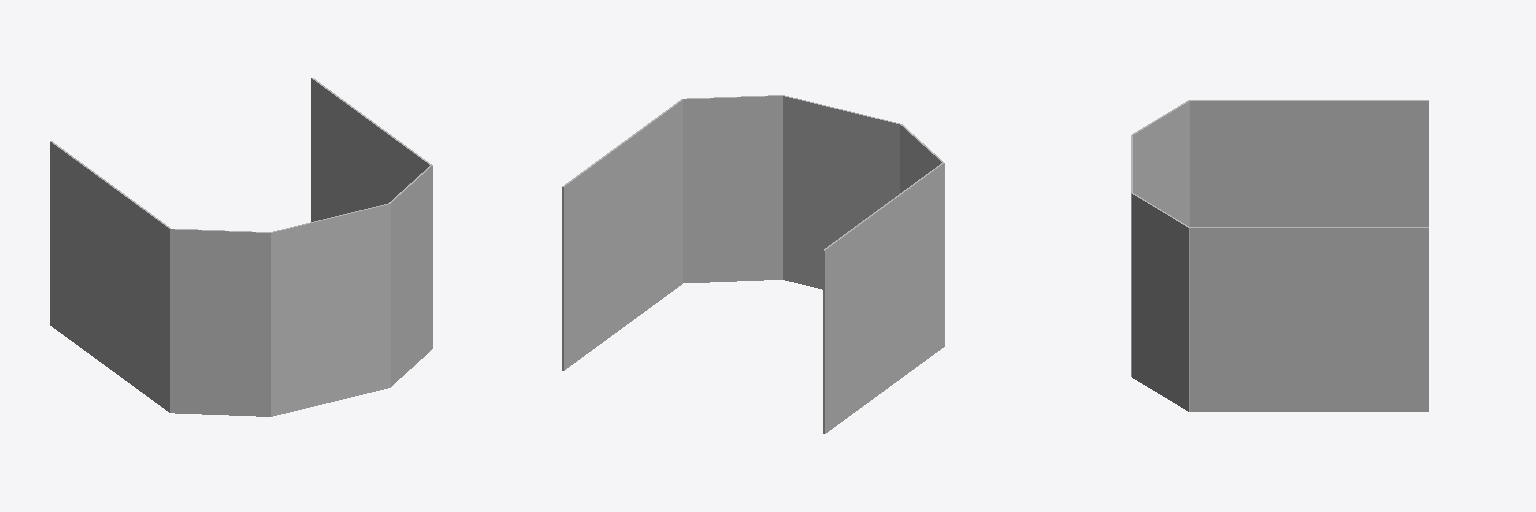
File: Fundo.obj
The picture shows the model from 3 angles: view 1: azimuth 30°, elevation 25°; view 2: azimuth 150°, elevation 25°; view 3: azimuth 270°, elevation 25°; orthographic projection.
Visible parts, largest first — view 1: Fundo; view 2: Fundo; view 3: Fundo.
Part boxes in pixels (x1,y1,x2,y2): Fundo: (50,78,432,416); Fundo: (562,95,944,433); Fundo: (1131,100,1428,411).
Bounding box in the file's own units: 59.84 × 40 × 58.72.